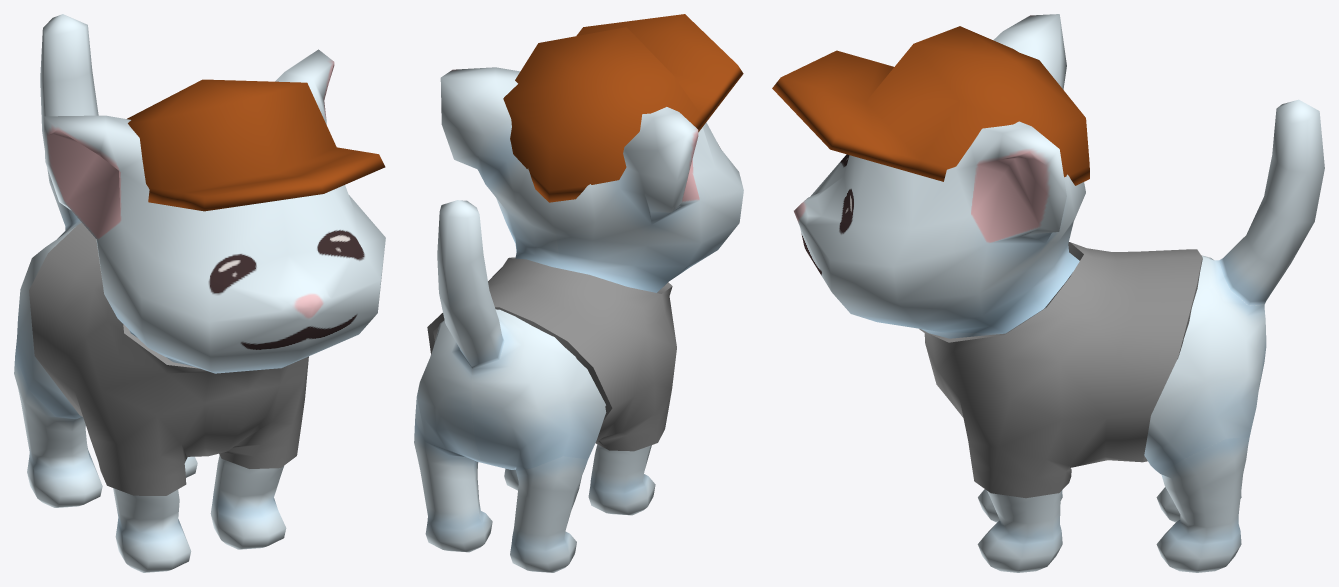
The model's file is Leader Cat05.fbx.
The picture shows the model from 3 angles, left to right: view 1: azimuth 30°, elevation 25°; view 2: azimuth 150°, elevation 25°; view 3: azimuth 270°, elevation 25°; orthographic projection. The views are drawn at different scales.
Parts seen in each view (by area): view 1: Cat_Base004, tshirt001, Org_Cat_Hat; view 2: Cat_Base004, Org_Cat_Hat, tshirt001; view 3: Cat_Base004, tshirt001, Org_Cat_Hat.
Boxes of the visible parts, x1=… form: Cat_Base004: x1=14, y1=14, x2=385, y2=572; tshirt001: x1=29, y1=223, x2=308, y2=495; Org_Cat_Hat: x1=127, y1=79, x2=385, y2=211; Cat_Base004: x1=414, y1=67, x2=743, y2=572; Org_Cat_Hat: x1=503, y1=14, x2=743, y2=202; tshirt001: x1=427, y1=257, x2=676, y2=451; Cat_Base004: x1=794, y1=14, x2=1324, y2=572; tshirt001: x1=919, y1=242, x2=1202, y2=498; Org_Cat_Hat: x1=772, y1=26, x2=1089, y2=185.
Bounding box in the file's own units: 1.75 × 2.95 × 2.91.
3 materials, 1 textured.
